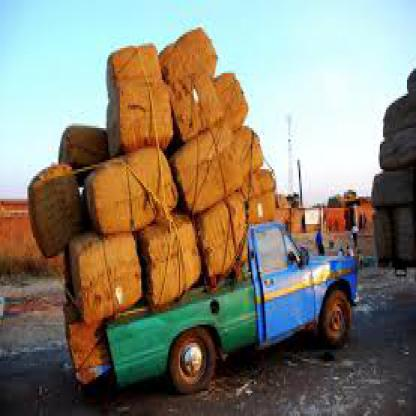overloaded-truck: (26, 44, 272, 308)
